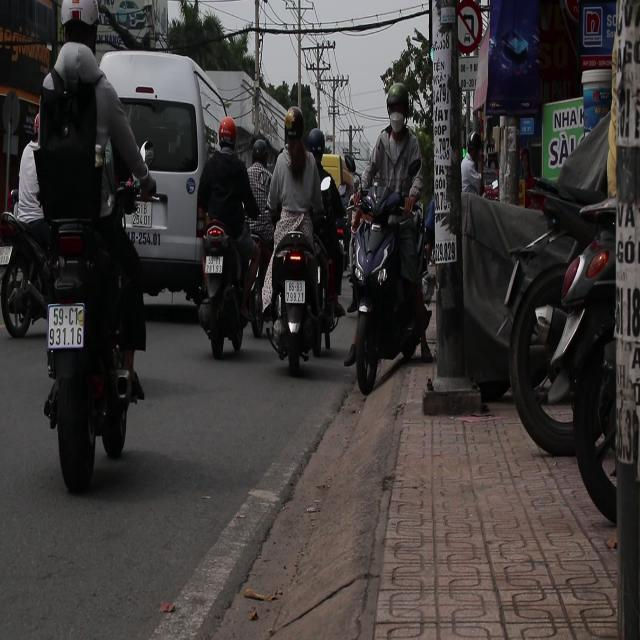car: (102, 49, 264, 323)
motorbike: (12, 208, 147, 483), (341, 153, 443, 410), (184, 192, 263, 371), (262, 221, 326, 376), (1, 213, 52, 339)
